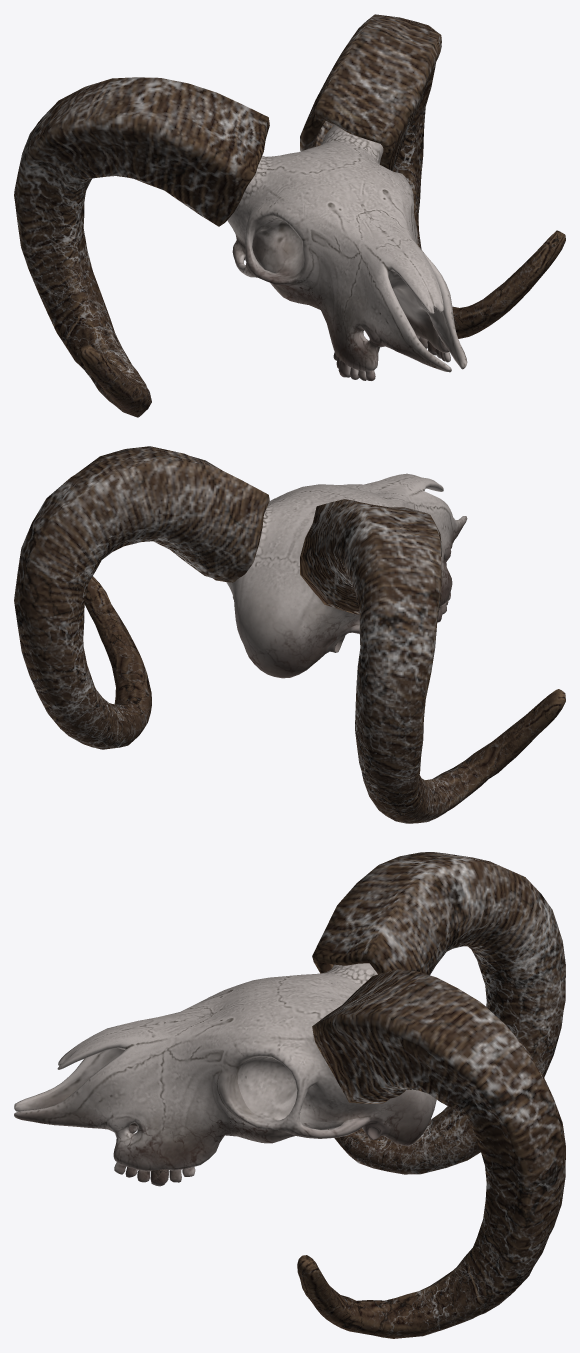
File: w_skull_mask__goat-skull.glb
3 views of the same model, one above another, from view 1: azimuth 30°, elevation 25°; view 2: azimuth 150°, elevation 25°; view 3: azimuth 270°, elevation 25° (orthographic). The views are drawn at different scales.
Parts seen in each view (by area): view 1: HornRetopoLevel1_1, GoatRetopoLevel1_0, ToothRetopoLevel1_2; view 2: HornRetopoLevel1_1, GoatRetopoLevel1_0; view 3: HornRetopoLevel1_1, GoatRetopoLevel1_0, ToothRetopoLevel1_2.
Part boxes in pixels (x1,y1,x2,y2): HornRetopoLevel1_1: (14, 14, 565, 417); GoatRetopoLevel1_0: (227, 125, 467, 372); ToothRetopoLevel1_2: (333, 335, 450, 380); HornRetopoLevel1_1: (14, 446, 565, 823); GoatRetopoLevel1_0: (226, 473, 467, 678); HornRetopoLevel1_1: (297, 852, 565, 1338); GoatRetopoLevel1_0: (14, 963, 436, 1171); ToothRetopoLevel1_2: (114, 1126, 195, 1186).
Bounding box in the file's own units: 3.76 × 2.25 × 3.4.
1 material, 1 textured.
